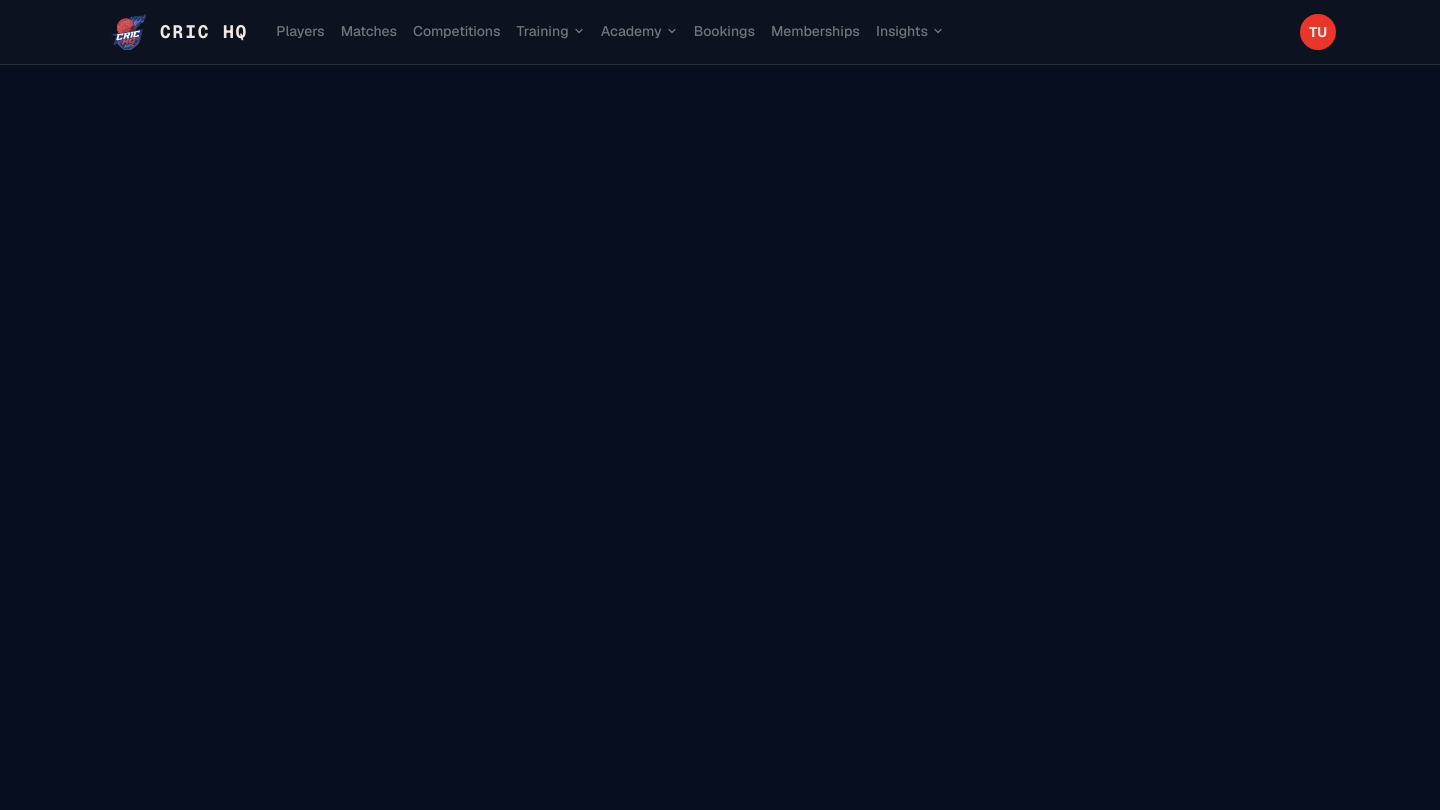
Test: NavBar › the Training dropdown opens on click, lists Coaching Sessions and Squad Training, and closes on outside click
Click the button "Training".
click(551, 32)  # box x1=508 y1=21 x2=593 y2=43
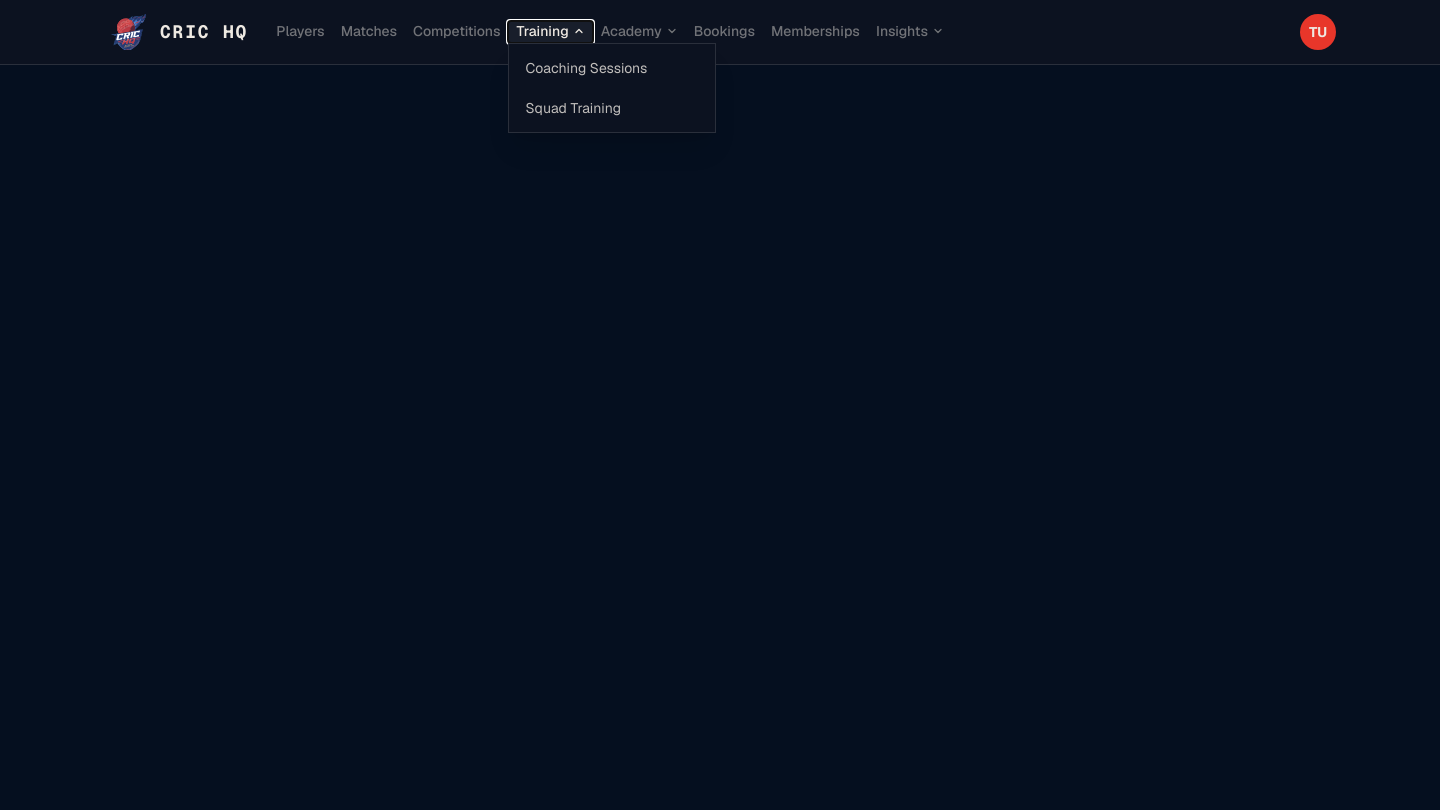
Expected: the button "Training" is expanded, x1=508 y1=21 x2=593 y2=43
Expected: the link "Coaching Sessions" is shown, x1=526 y1=59 x2=647 y2=77
Expected: the link "Squad Training" is shown, x1=526 y1=99 x2=621 y2=117
Click the element that starts with "CRIC HQ".
click(720, 405)  # box x1=0 y1=0 x2=1439 y2=809
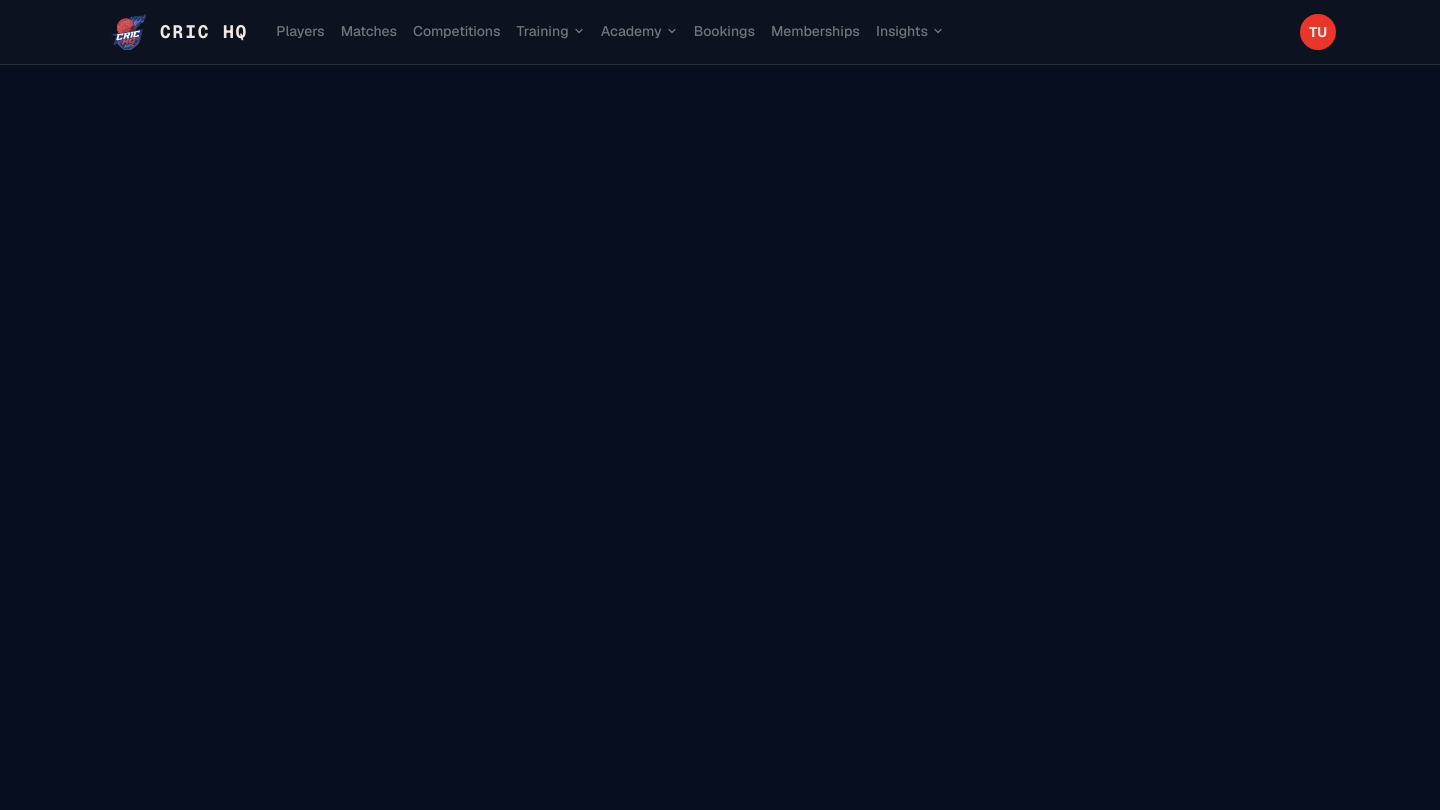
Expected: the link "Coaching Sessions" is gone
